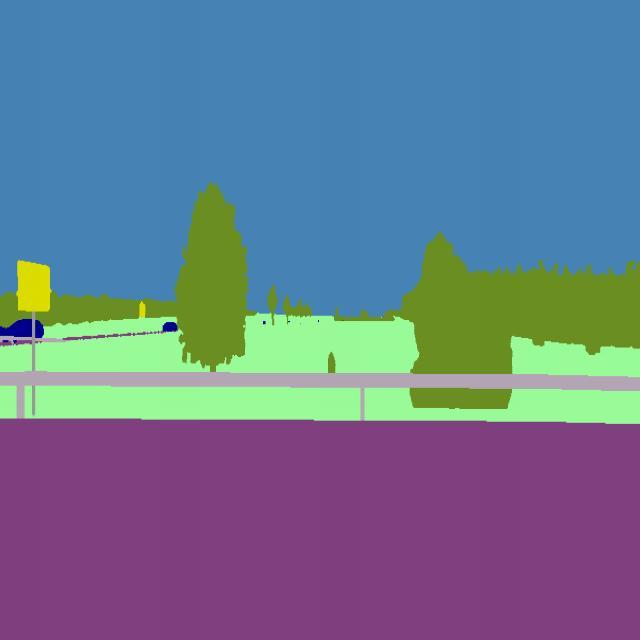safe: (0, 312, 48, 347), (157, 317, 180, 334)
